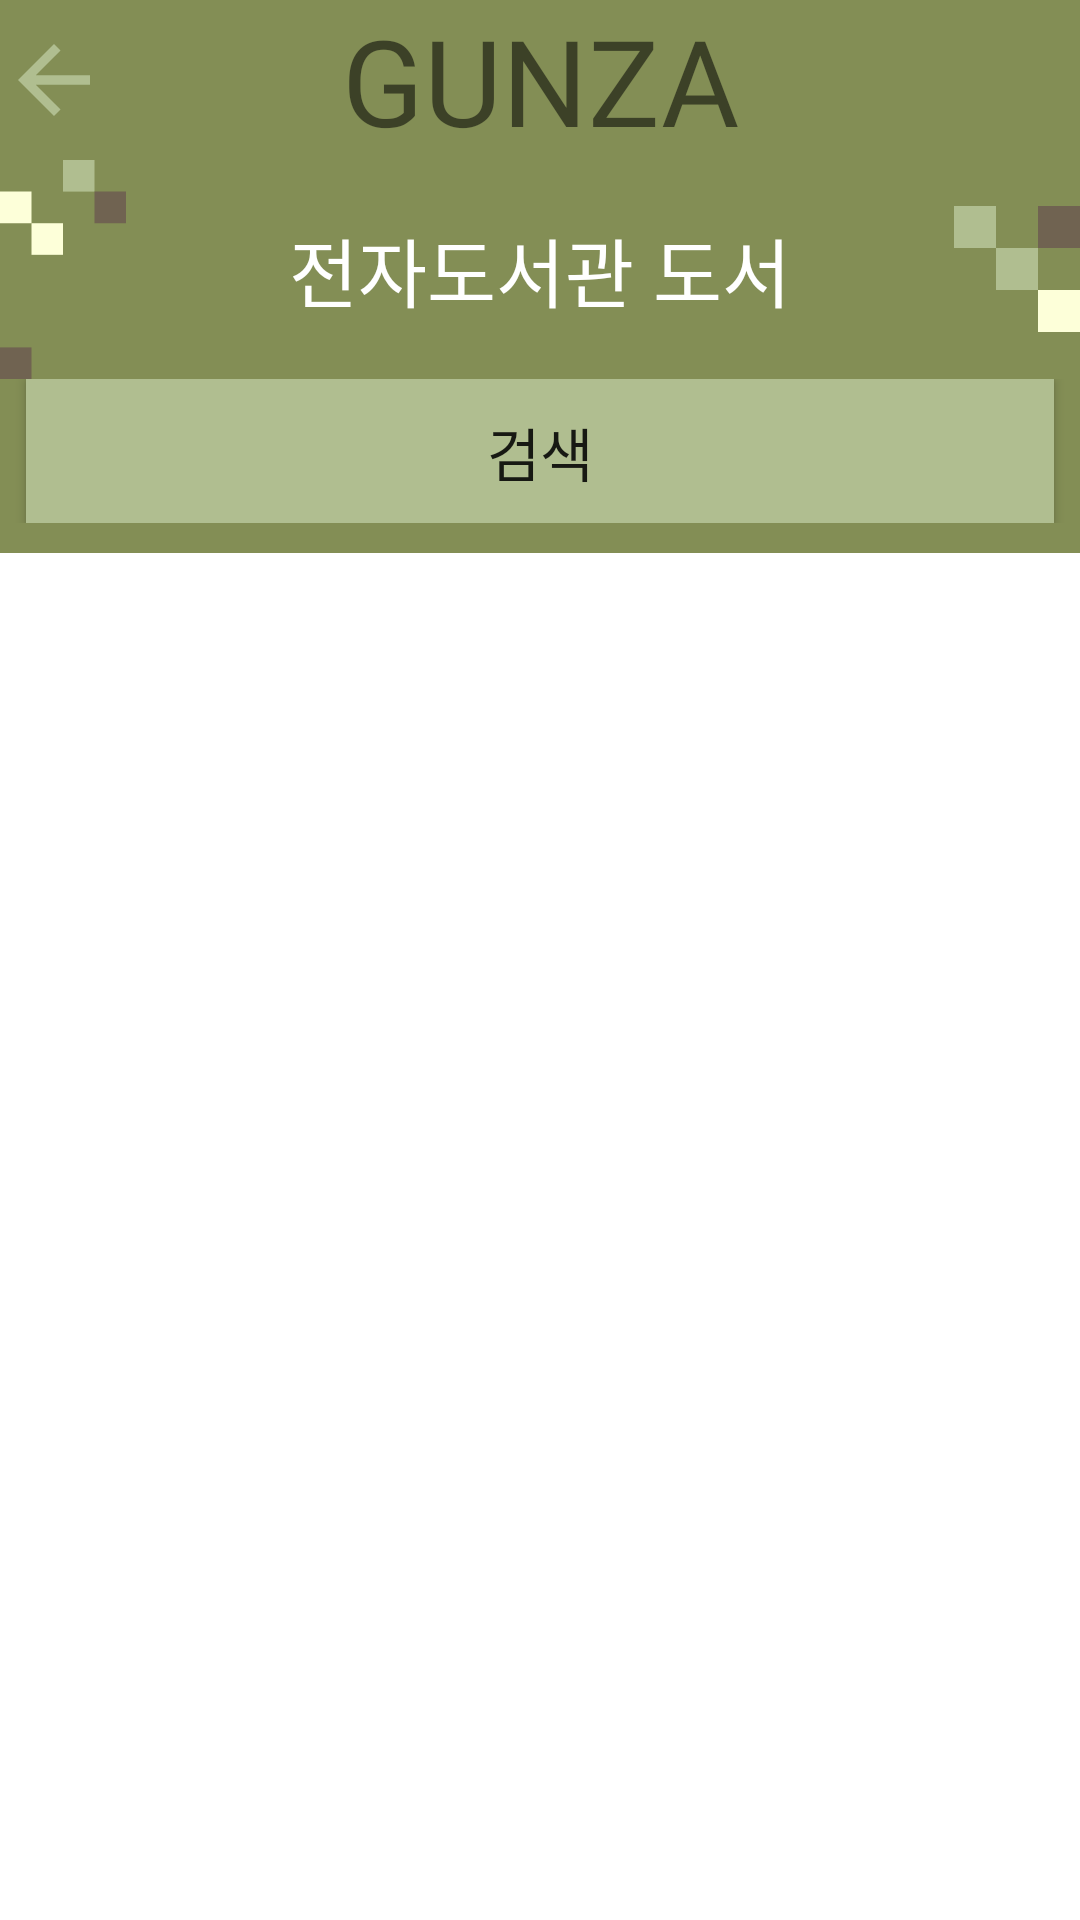

Icons on this 1080px×1920px Android screen, each with the point to tap as point (x, y):
back: point (54, 80)
